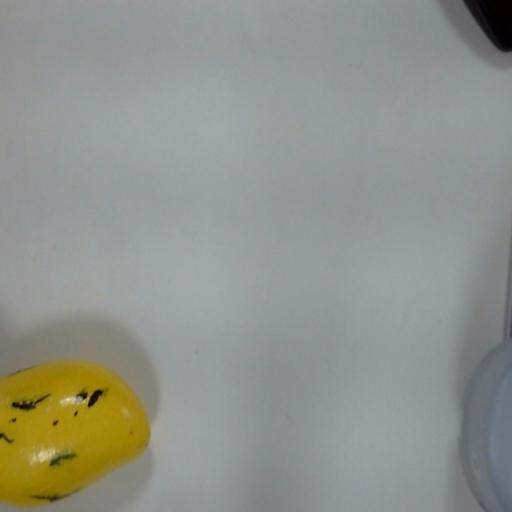Defective: (0, 352, 156, 512)
